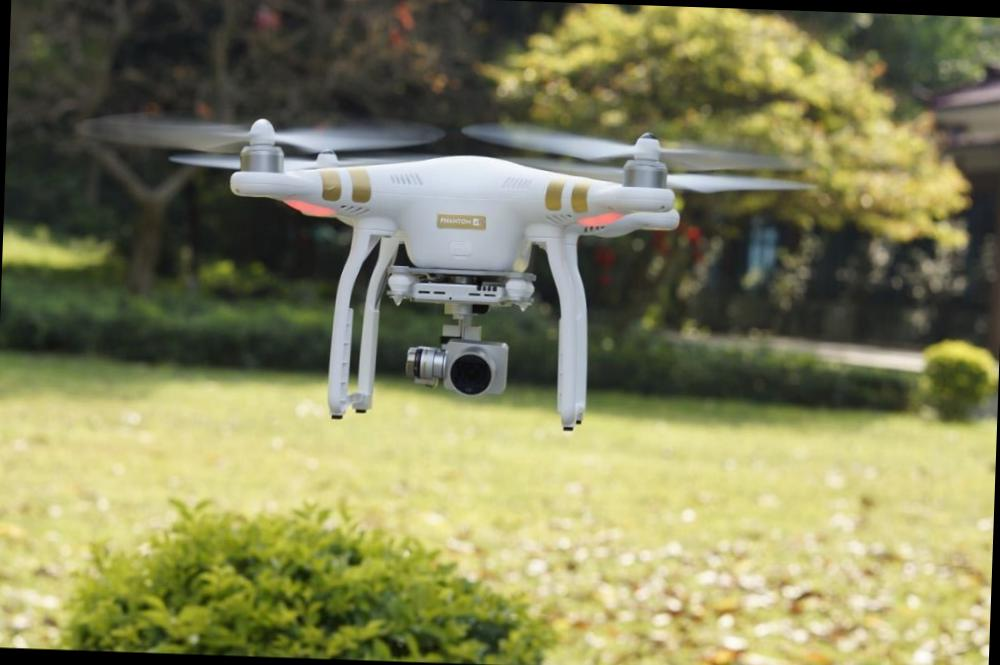drone: (157, 108, 700, 440)
